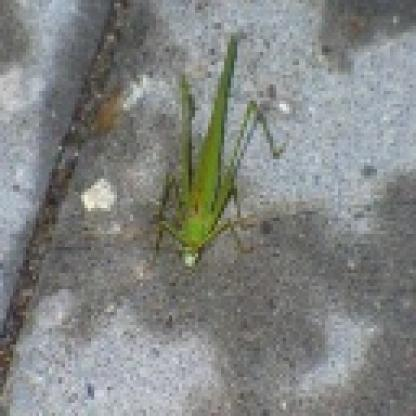grasshopper: (146, 35, 284, 263)
